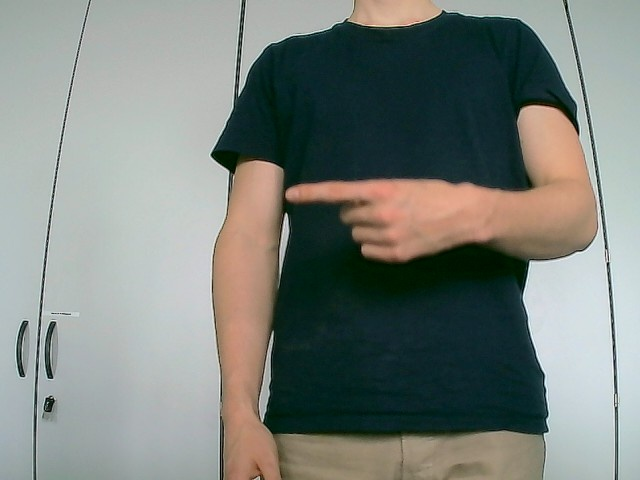right: (284, 176, 492, 264)
